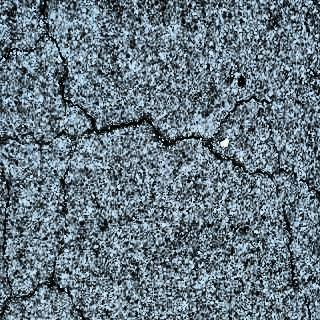crack: (40, 3, 97, 128), (86, 116, 212, 154), (50, 139, 76, 292), (207, 92, 270, 142), (208, 142, 278, 184), (5, 285, 86, 320), (0, 165, 14, 298), (1, 32, 46, 68), (273, 162, 320, 191)
